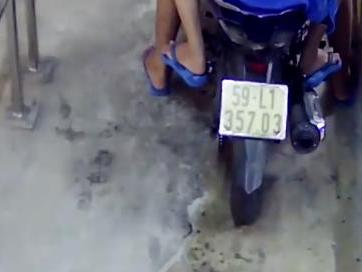num_plate: (218, 79, 287, 139)
